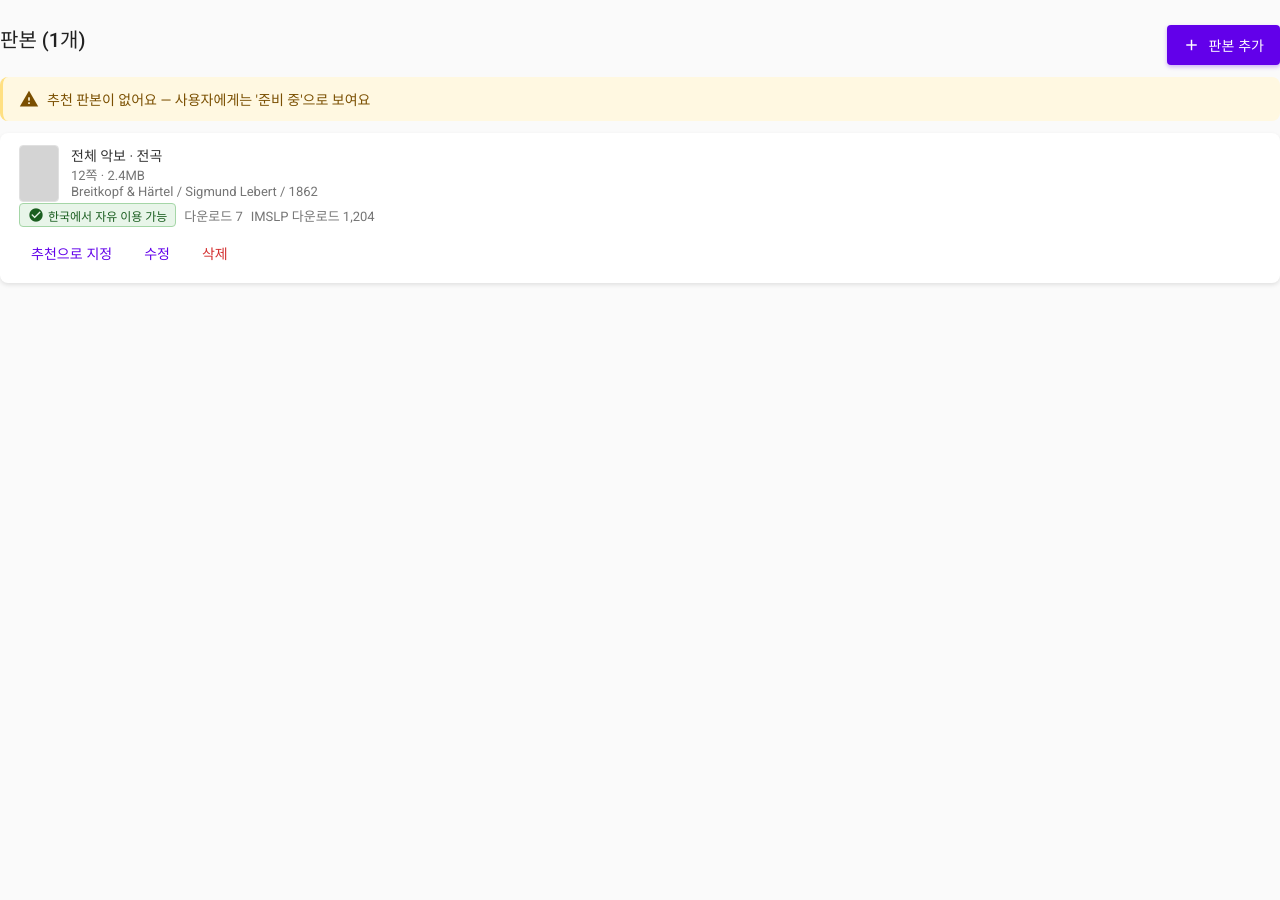
it: EditionListSection — 삭제 › 다운로드 기록이 있으면 확인 본문에 건수를 덧붙인다
Click the button "삭제". click: click(215, 253)
box: [190, 235, 240, 271]
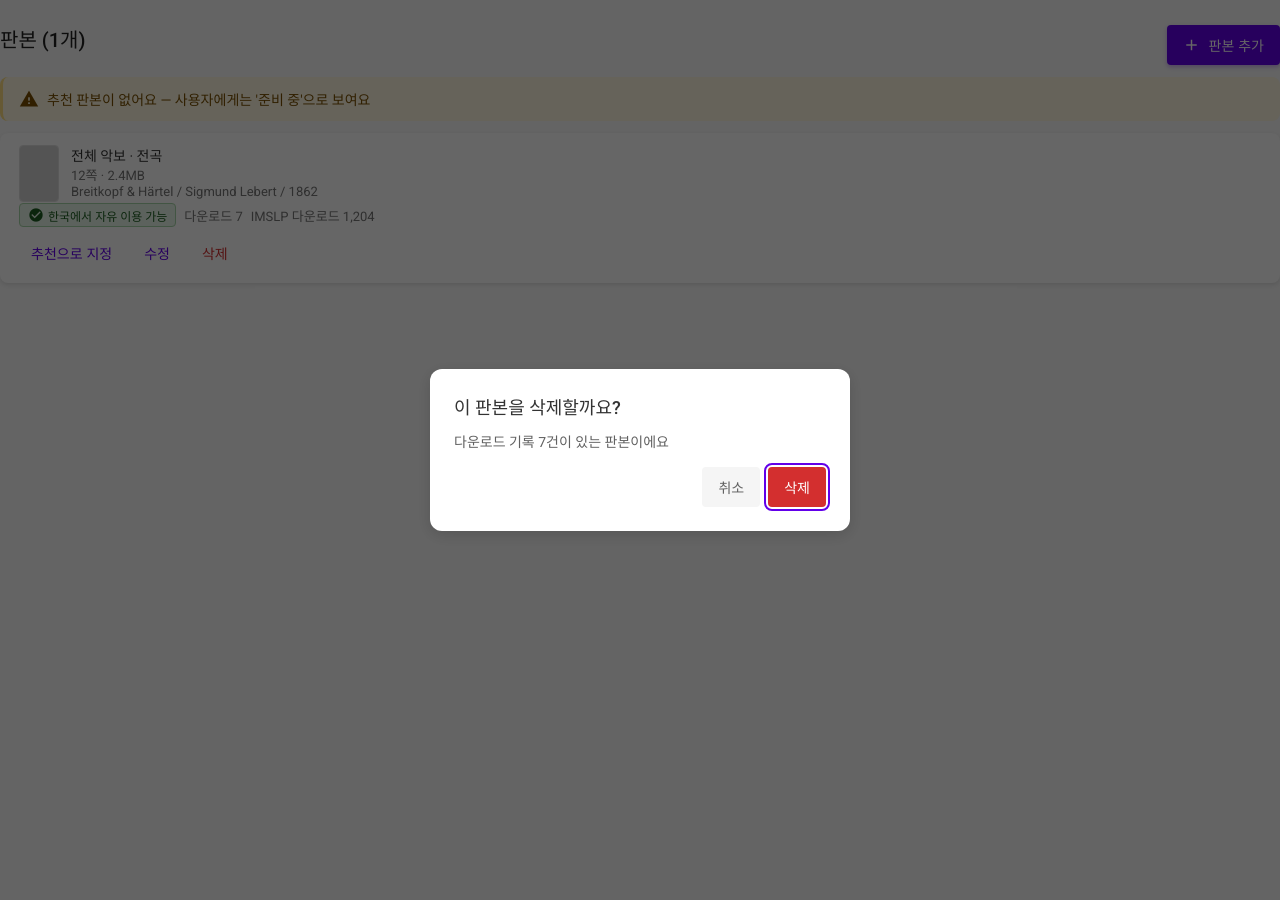
Now the dialog shows "다운로드 기록 7건이 있는 판본이에요", box [454, 434, 669, 450]
